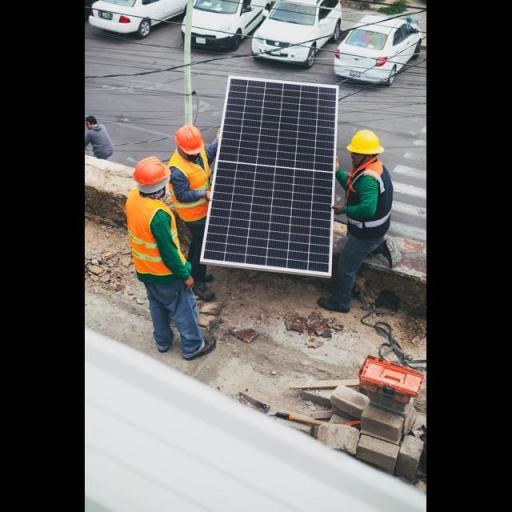Person: (120, 138, 222, 376), (320, 118, 420, 320), (155, 100, 223, 240)
helmet: (127, 150, 170, 190), (342, 126, 385, 158), (167, 123, 207, 155)
vest: (111, 192, 192, 288), (339, 162, 392, 240), (162, 148, 214, 222)
